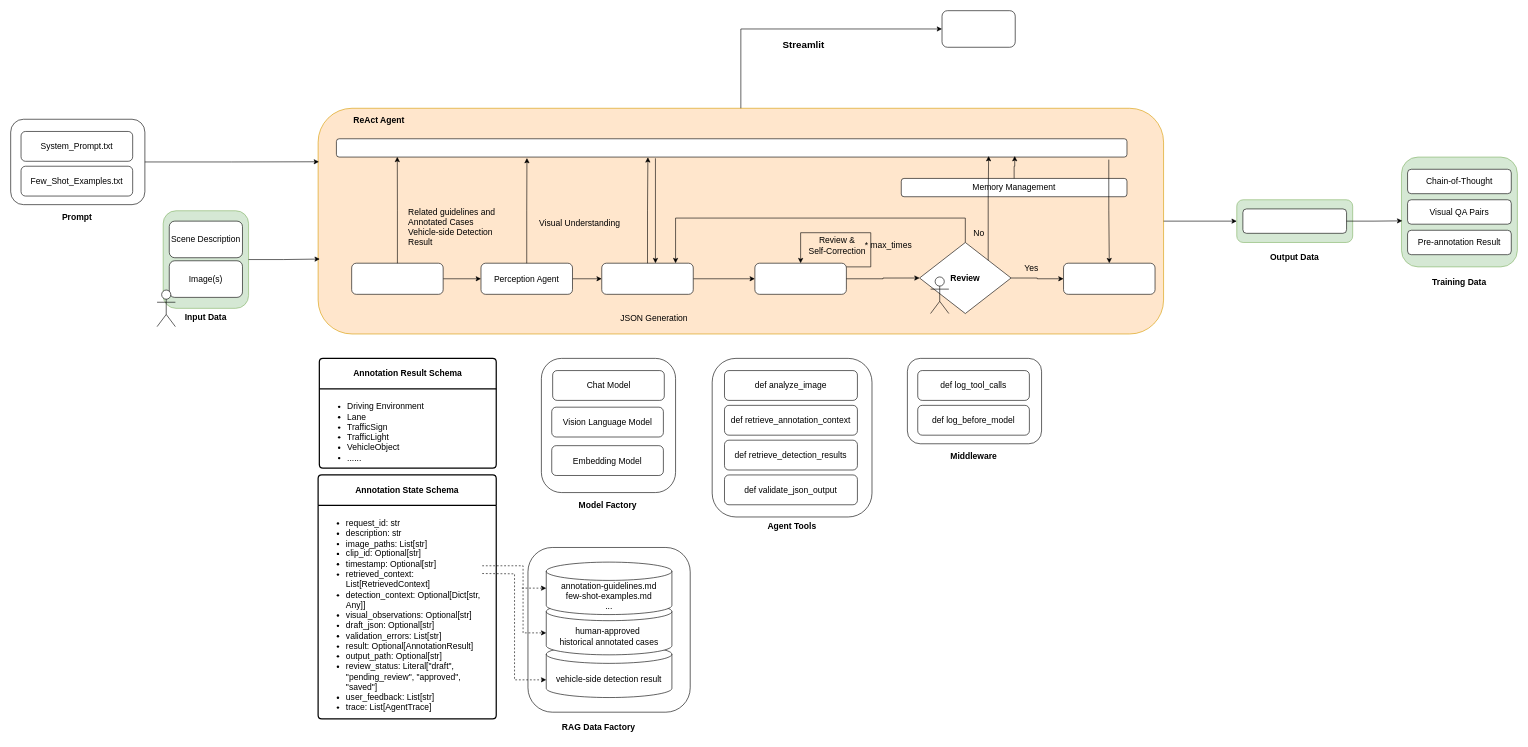
The diagram is 1528 pixels wide and 747 high, and some of its shapes have lost their labels. Here are the shapes that lost their labels. From the top down, the centre of each, then its label:
point (978, 28): run_app.py
point (731, 147): Annotation State (State Management)
point (1294, 220): Structured JSON
point (397, 278): Retrieval Agent
point (647, 278): AnnotationWriter Agent
point (800, 278): Quality Agent
point (939, 295): Human-in-the-loop
point (1109, 278): Persistence Agent
point (165, 308): Actor
